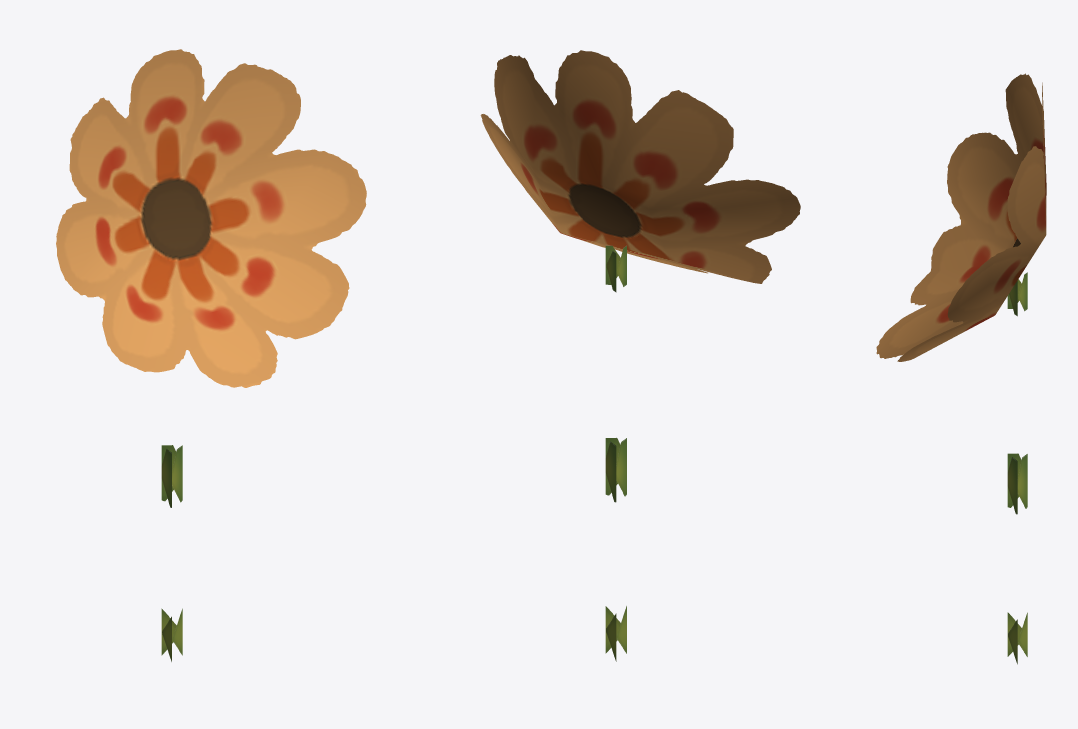
Rendered from yellowFlower_1.fbx.
The picture shows the model from 3 angles, left to right: view 1: azimuth 30°, elevation 25°; view 2: azimuth 150°, elevation 25°; view 3: azimuth 270°, elevation 25°; orthographic projection. The views are drawn at different scales.
Parts seen in each view (by area): view 1: yellowFlower_1; view 2: yellowFlower_1; view 3: yellowFlower_1.
Part boxes in pixels (x1,y1,x2,y2): yellowFlower_1: [56, 49, 366, 661]; yellowFlower_1: [480, 50, 800, 661]; yellowFlower_1: [876, 73, 1046, 664].
Size of the model in its own units: 0.4426 by 0.8652 by 0.241.
